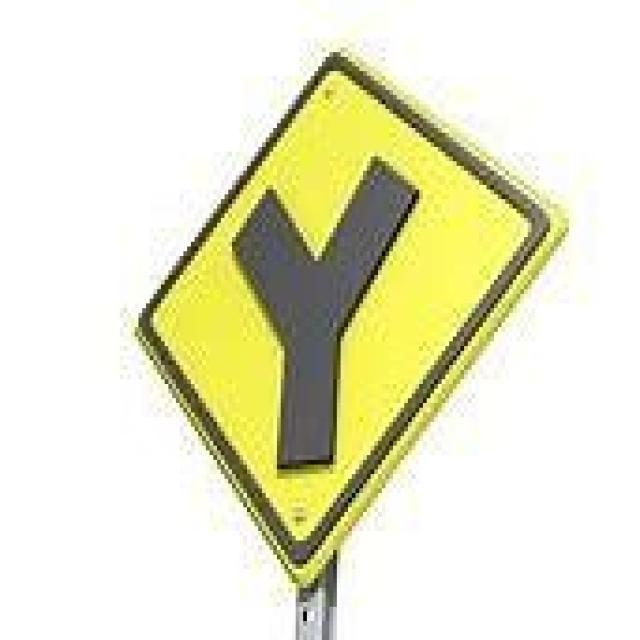y intersection: (132, 57, 572, 582)
